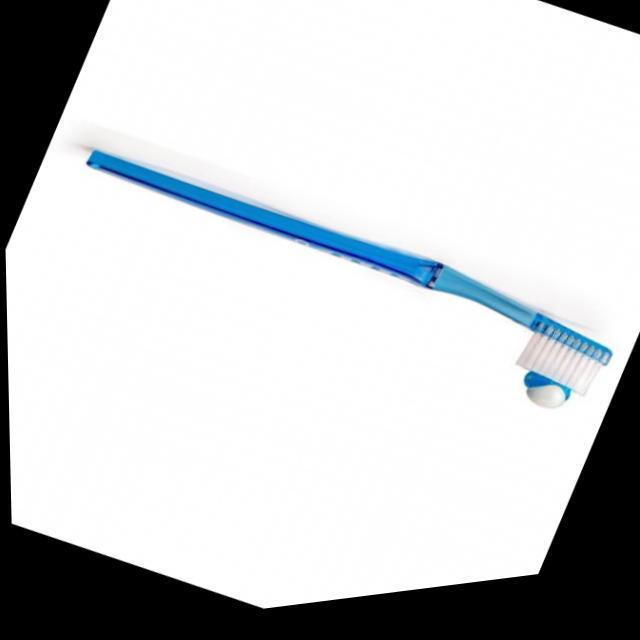toothbrush: (30, 73, 634, 497)
